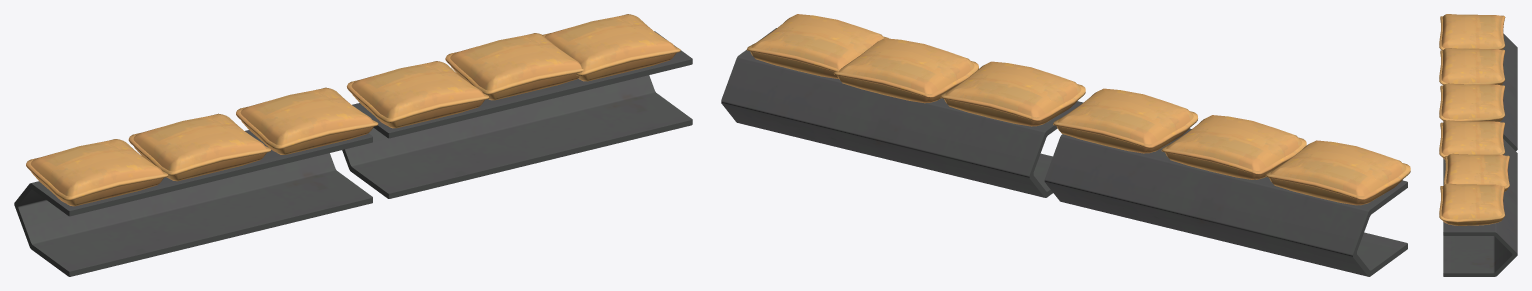
Rendered from PillowBench.obj.
The picture shows the model from 3 angles, left to right: view 1: azimuth 30°, elevation 25°; view 2: azimuth 150°, elevation 25°; view 3: azimuth 270°, elevation 25°; orthographic projection. The views are drawn at different scales.
Visible parts, largest first — view 1: Bench02_Bench02Mesh, Bench01_Bench01Mesh, Pillow04_Pillow04Mesh, Pillow01_Pillow01Mesh, Pillow06_Pillow06Mesh, Pillow05_Pillow05Mesh, Pillow02_Pillow02Mesh, Pillow03_Pillow03Mesh; view 2: Bench02_Bench02Mesh, Bench01_Bench01Mesh, Pillow01_Pillow01Mesh, Pillow06_Pillow06Mesh, Pillow04_Pillow04Mesh, Pillow05_Pillow05Mesh, Pillow02_Pillow02Mesh, Pillow03_Pillow03Mesh; view 3: Bench01_Bench01Mesh, Pillow03_Pillow03Mesh, Pillow06_Pillow06Mesh, Pillow05_Pillow05Mesh, Pillow04_Pillow04Mesh, Pillow01_Pillow01Mesh, Pillow02_Pillow02Mesh, Bench02_Bench02Mesh.
Part boxes in pixels (bbox=[...]): Bench02_Bench02Mesh: bbox=[14, 130, 372, 276]; Bench01_Bench01Mesh: bbox=[342, 31, 692, 198]; Pillow04_Pillow04Mesh: bbox=[26, 139, 168, 206]; Pillow01_Pillow01Mesh: bbox=[346, 61, 489, 128]; Pillow06_Pillow06Mesh: bbox=[236, 87, 378, 154]; Pillow05_Pillow05Mesh: bbox=[128, 113, 270, 181]; Pillow02_Pillow02Mesh: bbox=[445, 33, 583, 100]; Pillow03_Pillow03Mesh: bbox=[542, 14, 680, 81]; Bench02_Bench02Mesh: bbox=[1044, 128, 1407, 276]; Bench01_Bench01Mesh: bbox=[721, 28, 1083, 197]; Pillow01_Pillow01Mesh: bbox=[940, 61, 1085, 126]; Pillow06_Pillow06Mesh: bbox=[1053, 88, 1197, 153]; Pillow04_Pillow04Mesh: bbox=[1265, 140, 1410, 205]; Pillow05_Pillow05Mesh: bbox=[1161, 115, 1306, 179]; Pillow02_Pillow02Mesh: bbox=[834, 38, 978, 103]; Pillow03_Pillow03Mesh: bbox=[746, 14, 888, 78]; Bench01_Bench01Mesh: bbox=[1443, 139, 1517, 276]; Pillow03_Pillow03Mesh: bbox=[1439, 183, 1505, 225]; Pillow06_Pillow06Mesh: bbox=[1439, 83, 1505, 121]; Pillow05_Pillow05Mesh: bbox=[1439, 48, 1505, 85]; Pillow04_Pillow04Mesh: bbox=[1439, 14, 1505, 50]; Pillow01_Pillow01Mesh: bbox=[1439, 120, 1505, 159]; Pillow02_Pillow02Mesh: bbox=[1444, 153, 1509, 191]; Bench02_Bench02Mesh: bbox=[1443, 33, 1517, 150].
Size of the model in its own units: 5.38 by 0.768 by 0.8589.
Materials: 4 (4 with a texture image).
